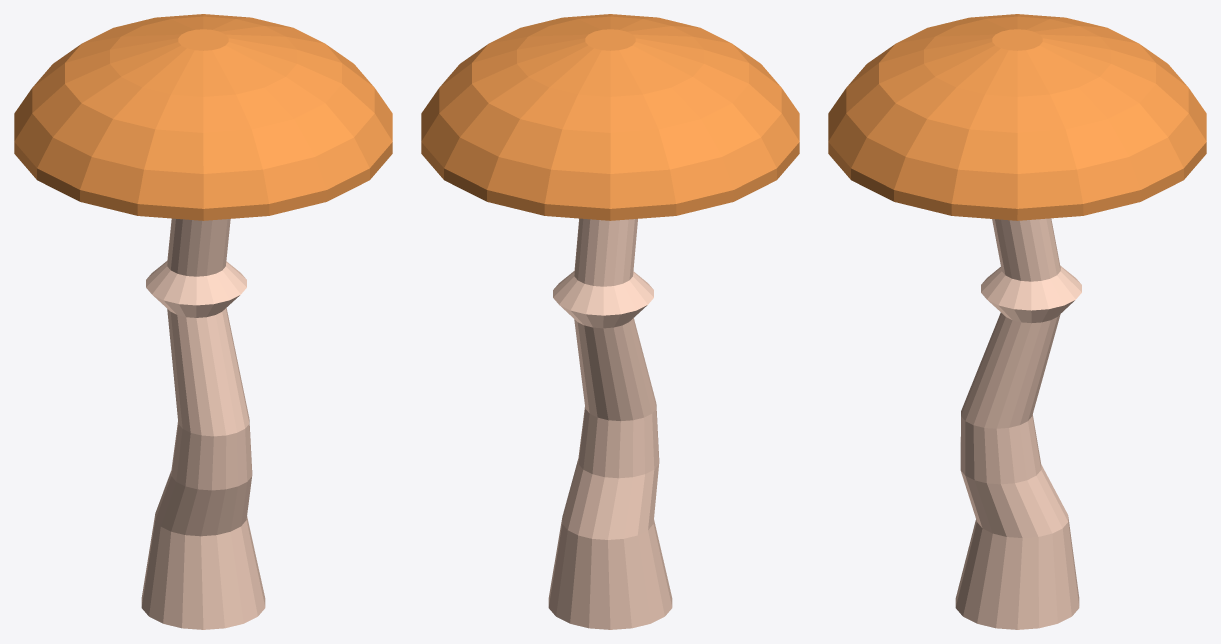
Rendered from mushroom.fbx.
3 renders of one model, left to right at view 1: azimuth 30°, elevation 25°; view 2: azimuth 150°, elevation 25°; view 3: azimuth 270°, elevation 25°, orthographic.
Visible parts, largest first — view 1: Cylinder001; view 2: Cylinder001; view 3: Cylinder001.
Boxes of the visible parts, bbox=[...] form: Cylinder001: bbox=[14, 14, 392, 629]; Cylinder001: bbox=[421, 14, 799, 629]; Cylinder001: bbox=[828, 14, 1206, 629].
Bounding box in the file's own units: 76.64 × 124 × 75.47.
